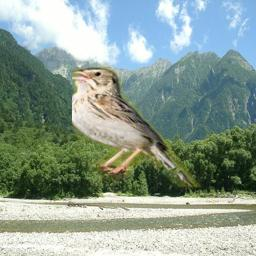Sparrow: (72, 67, 202, 189)
